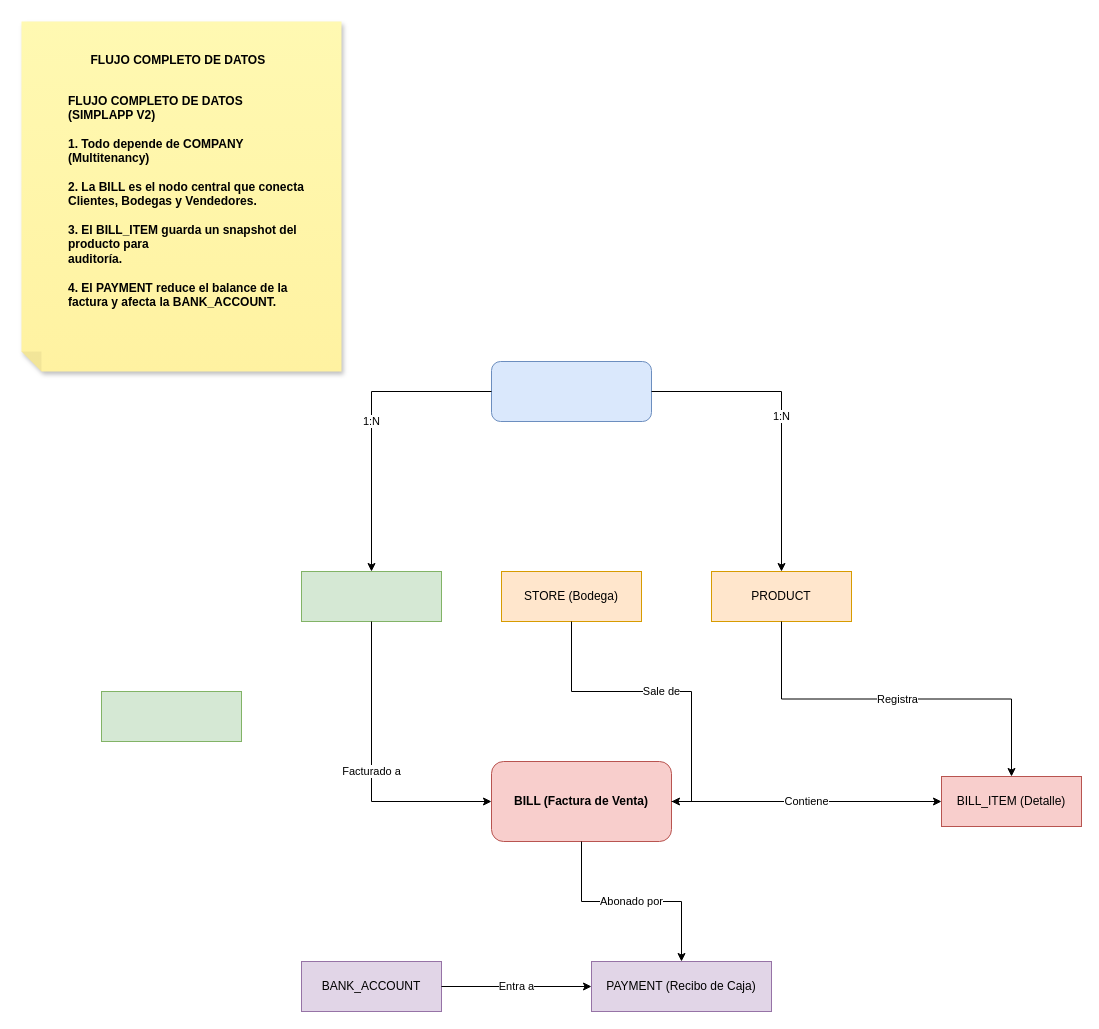
Some shapes in this 1099 by 1029 pixel diagram are drawn without their labels. The centre of each missing label's shape, as x and y in pixels:
"CLIENT (Persona/Juridica)" goes at point 371,596.
"COMPANY (Multitenant)" goes at point 571,391.
"SELLER" goes at point 171,716.
